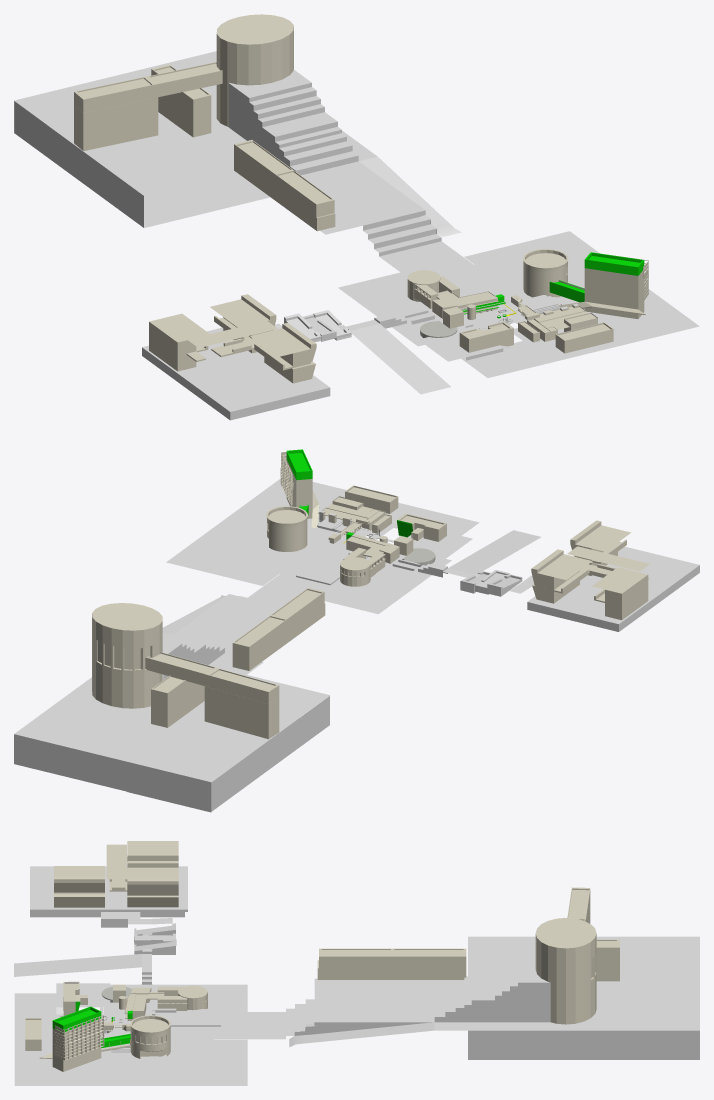
File: MAPA.fbx
3 views of the same model, one above another, from view 1: azimuth 30°, elevation 25°; view 2: azimuth 150°, elevation 25°; view 3: azimuth 270°, elevation 25° (orthographic). The views are drawn at different scales.
Visible parts, largest first — view 1: pPlane1, pasted__pasted__pCylinder4 (×2), pasted__pCube5, pasted__pasted__pasted__pCube9 (×4), pasted__pasted__pasted__pasted__pasted__pasted__pasted__past (×3), pasted__pCube6 (×2), pasted__pasted__pasted__pasted__pCube9 (×3), pasted__pasted__pasted__pasted__pasted__pCube9 (×2), pasted__pasted__pasted__pCube6 (×2), pasted__pasted__pasted__pasted__pasted__pasted__pCube9, pasted__pasted__pasted__pasted__pCube6, pasted__pasted__pasted__pasted__pasted__pasted__pasted__pCub (+4 smaller); view 2: pPlane1, pasted__pasted__pCylinder4 (×2), pasted__pCube5, pasted__pasted__pasted__pCube9 (×3), pasted__pasted__pasted__pasted__pasted__pasted__pasted__past (×3), pasted__pCube6 (×2), pasted__pasted__pasted__pasted__pasted__pCube9 (×2), pasted__pasted__pasted__pCube6 (×2), pasted__pasted__pasted__pasted__pCube9 (×2), pasted__pasted__pasted__pasted__pasted__pasted__pCube9, pasted__pasted__pasted__pasted__pCube6, pasted__pasted__pasted__pasted__pasted__pasted__pasted__pCub (+5 smaller); view 3: pPlane1, pasted__pasted__pCylinder4 (×2), pasted__pCube5 (×2), pasted__pasted__pasted__pCube9 (×3), pasted__pCube6 (×3), pasted__pasted__pasted__pasted__pCube9 (×2), pasted__pasted__pasted__pCube6, pPlane3, pasted__pasted__pasted__pasted__pCube6, pasted__pasted__pCube9, pCube6, pPlane2 (+8 smaller).
Part boxes in pixels (x1,y1,x2,y2): pPlane1: [14, 51, 699, 394]; pasted__pasted__pCylinder4 (×2): [216, 14, 568, 297]; pasted__pCube5: [142, 313, 330, 420]; pasted__pasted__pasted__pCube9 (×4): [158, 99, 613, 353]; pasted__pasted__pasted__pasted__pasted__pasted__pasted__past (×3): [74, 110, 644, 275]; pasted__pCube6 (×2): [250, 321, 513, 370]; pasted__pasted__pasted__pasted__pCube9 (×3): [158, 95, 645, 318]; pasted__pasted__pasted__pasted__pasted__pCube9 (×2): [144, 62, 222, 112]; pasted__pasted__pasted__pCube6 (×2): [149, 294, 276, 371]; pasted__pasted__pasted__pasted__pasted__pasted__pCube9: [74, 76, 157, 112]; pasted__pasted__pasted__pasted__pCube6: [149, 313, 209, 361]; pasted__pasted__pasted__pasted__pasted__pasted__pasted__pCub: [74, 97, 158, 125]; pPlane1: [14, 478, 541, 812]; pasted__pasted__pCylinder4 (×2): [92, 506, 307, 708]; pasted__pCube5: [487, 546, 699, 631]; pasted__pasted__pasted__pCube9 (×3): [151, 485, 398, 727]; pasted__pasted__pasted__pasted__pasted__pasted__pasted__past (×3): [204, 449, 312, 739]; pasted__pCube6 (×2): [397, 513, 630, 563]; pasted__pasted__pasted__pasted__pasted__pCube9 (×2): [145, 652, 219, 704]; pasted__pasted__pasted__pCube6 (×2): [531, 549, 648, 620]; pasted__pasted__pasted__pasted__pCube9 (×2): [151, 587, 324, 715]; pasted__pasted__pasted__pasted__pasted__pasted__pCube9: [204, 667, 279, 703]; pasted__pasted__pasted__pasted__pCube6: [592, 567, 648, 606]; pasted__pasted__pasted__pasted__pasted__pasted__pasted__pCub: [204, 686, 279, 716]; pPlane1: [14, 936, 699, 1085]; pasted__pasted__pCylinder4 (×2): [130, 918, 596, 1058]; pasted__pCube5 (×2): [30, 866, 187, 946]; pasted__pasted__pasted__pCube9 (×3): [25, 948, 466, 1050]; pasted__pCube6 (×3): [54, 866, 178, 1015]; pasted__pasted__pasted__pasted__pCube9 (×2): [39, 948, 393, 1071]; pasted__pasted__pasted__pCube6: [127, 867, 178, 895]; pPlane3: [54, 1015, 104, 1060]; pasted__pasted__pasted__pasted__pCube6: [127, 841, 178, 867]; pasted__pasted__pCube9: [391, 968, 466, 979]; pCube6: [54, 893, 104, 907]; pPlane2: [106, 844, 126, 879].
Bounding box in the file's own units: 2896 × 710 × 4173.
